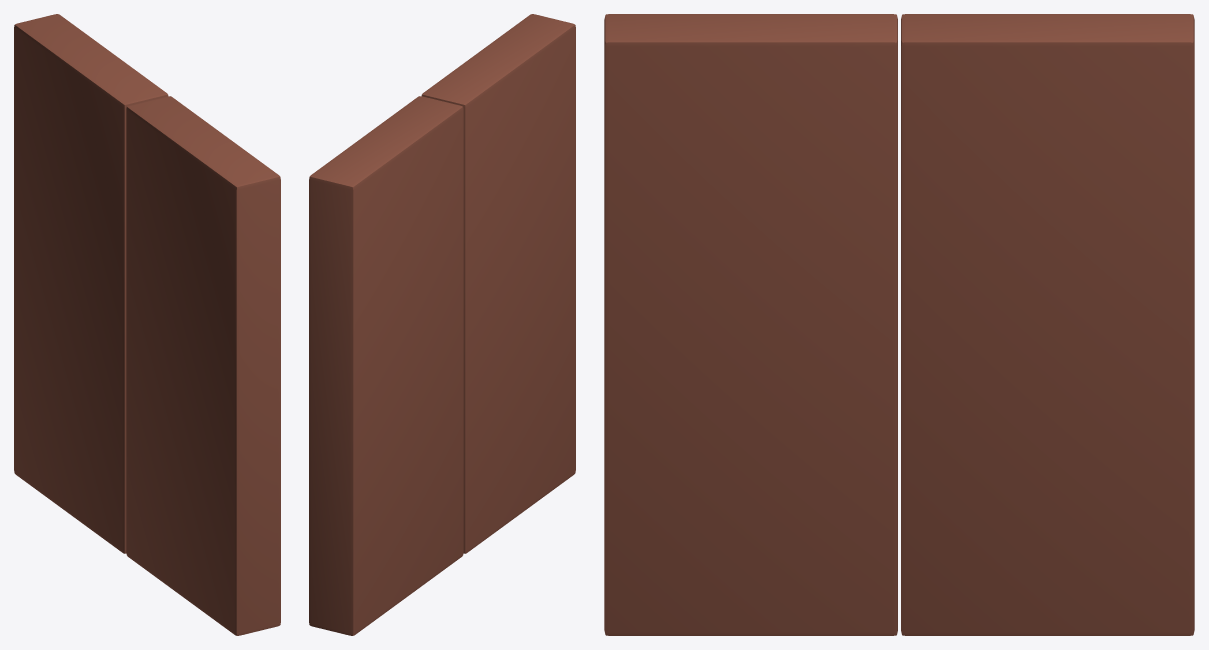
Rendered from DefaultLevel_Elevator_Door.fbx.
3 views of the same model, side by side, from view 1: azimuth 30°, elevation 25°; view 2: azimuth 150°, elevation 25°; view 3: azimuth 270°, elevation 25° (orthographic). The views are drawn at different scales.
Visible parts, largest first — view 1: DefaultLevel_Elevator_Door; view 2: DefaultLevel_Elevator_Door; view 3: DefaultLevel_Elevator_Door.
Part boxes in pixels (bbox=[...]): DefaultLevel_Elevator_Door: bbox=[14, 14, 280, 635]; DefaultLevel_Elevator_Door: bbox=[309, 14, 575, 635]; DefaultLevel_Elevator_Door: bbox=[604, 14, 1194, 635].
Size of the model in its own units: 46.08 by 440 by 395.
